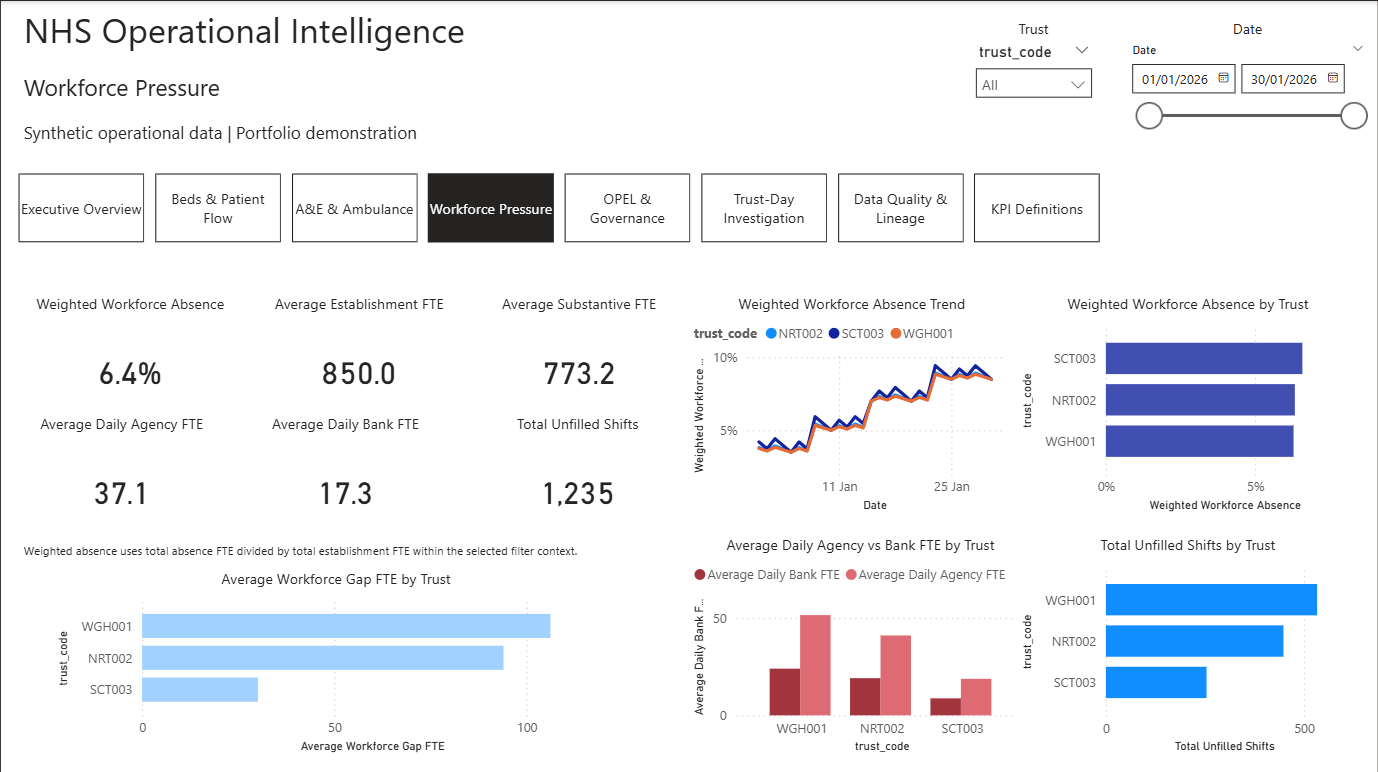

The dashboard page shown, as its layout file describes it:
{"tool":"powerbi","page":{"name":"Workforce Pressure","canvas":[1280,720],"ordinal":5},"visuals":[{"type":"textbox","box":[16,0,1264,272],"z":0},{"type":"pageNavigator","box":[16,160,1008,64],"z":1000},{"type":"slicer","title":"Trust","fields":{"Values":["DimTrust.trust_code"]},"box":[896,16,128,80],"z":2000},{"type":"slicer","title":"Date","fields":{"Values":["DimDate.Date"]},"box":[1040,16,240,112],"z":3000},{"type":"card","title":"Weighted Workforce Absence","fields":{"Values":["_Measures.Weighted Workforce Absence"]},"box":[16,272,208,128],"z":4000},{"type":"card","title":"Average Establishment FTE","fields":{"Values":["_Measures.Average Establishment FTE"]},"box":[236.8,272,192,128],"z":5000},{"type":"card","title":"Average Substantive FTE","fields":{"Values":["_Measures.Average Substantive FTE"]},"box":[441.6,272,192,128],"z":6000},{"type":"card","title":"Average Daily Agency FTE","fields":{"Values":["_Measures.Average Daily Agency FTE"]},"box":[16,384,192,128],"z":7000},{"type":"card","title":"Average Daily Bank FTE","fields":{"Values":["_Measures.Average Daily Bank FTE"]},"box":[224,384,192,128],"z":8000},{"type":"card","title":"Total Unfilled Shifts","fields":{"Values":["_Measures.Total Unfilled Shifts"]},"box":[432,384,208,128],"z":9000},{"type":"textbox","box":[16,496,528,32],"z":10000},{"type":"lineChart","title":"Weighted Workforce Absence Trend","fields":{"Category":["DimDate.Date"],"Y":["_Measures.Weighted Workforce Absence"],"Series":["DimTrust.trust_code"]},"box":[640,272,304,208],"z":11000},{"type":"clusteredBarChart","title":"Weighted Workforce Absence by Trust","fields":{"Category":["DimTrust.trust_code"],"Y":["_Measures.Weighted Workforce Absence"]},"box":[944,272,320,208],"z":12000},{"type":"clusteredColumnChart","title":"Average Daily Agency vs Bank FTE by Trust","fields":{"Category":["DimTrust.trust_code"],"Y":["_Measures.Average Daily Bank FTE","_Measures.Average Daily Agency FTE"]},"box":[640,496,320,208],"z":13000},{"type":"clusteredBarChart","title":"Total Unfilled Shifts by Trust","fields":{"Category":["DimTrust.trust_code"],"Y":["_Measures.Total Unfilled Shifts"]},"box":[944,496,320,208],"z":14000},{"type":"clusteredBarChart","title":"Average Workforce Gap FTE by Trust","fields":{"Category":["DimTrust.trust_code"],"Y":["_Measures.Average Workforce Gap FTE"]},"box":[48,528,528,176],"z":15000}]}

Visuals, with their boxes in screenshot pixels (x1, y1, x2, y2), scaled from the page's 1280x720 canvas onto the 1378x772 screenshot:
textbox: <region>17, 0, 1377, 292</region>
pageNavigator: <region>17, 172, 1102, 240</region>
"Trust" slicer: <region>965, 17, 1102, 103</region>
"Date" slicer: <region>1120, 17, 1377, 137</region>
"Weighted Workforce Absence" card: <region>17, 292, 241, 429</region>
"Average Establishment FTE" card: <region>255, 292, 462, 429</region>
"Average Substantive FTE" card: <region>475, 292, 682, 429</region>
"Average Daily Agency FTE" card: <region>17, 412, 224, 549</region>
"Average Daily Bank FTE" card: <region>241, 412, 448, 549</region>
"Total Unfilled Shifts" card: <region>465, 412, 689, 549</region>
textbox: <region>17, 532, 586, 566</region>
"Weighted Workforce Absence Trend" lineChart: <region>689, 292, 1016, 515</region>
"Weighted Workforce Absence by Trust" clusteredBarChart: <region>1016, 292, 1361, 515</region>
"Average Daily Agency vs Bank FTE by Trust" clusteredColumnChart: <region>689, 532, 1034, 755</region>
"Total Unfilled Shifts by Trust" clusteredBarChart: <region>1016, 532, 1361, 755</region>
"Average Workforce Gap FTE by Trust" clusteredBarChart: <region>52, 566, 620, 755</region>
